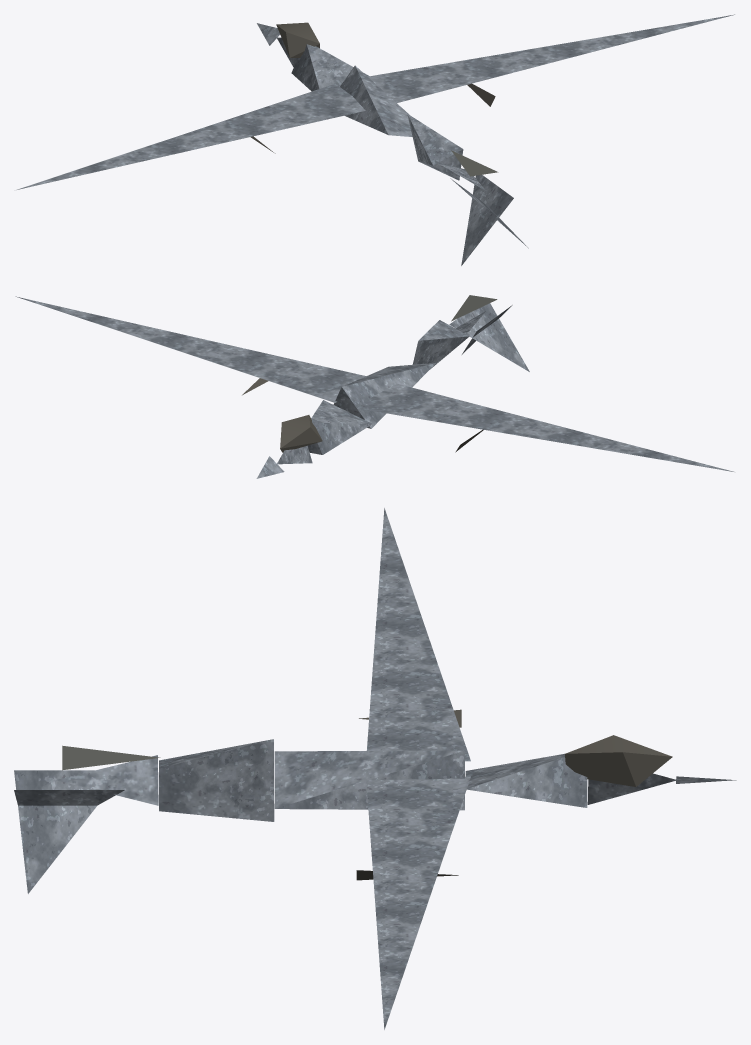
File: uav_e6_us_armed_LOD2.glb
3 renders of one model, top to bottom at view 1: azimuth 30°, elevation 25°; view 2: azimuth 150°, elevation 25°; view 3: azimuth 270°, elevation 25°, orthographic. The views are drawn at different scales.
Visible parts, largest first — view 1: uav_e6_us_armed_LOD2_body, uav_e6_us_armed_LOD2_deck, uav_e6_us_armed_LOD2_gun; view 2: uav_e6_us_armed_LOD2_body, uav_e6_us_armed_LOD2_deck, uav_e6_us_armed_LOD2_gun; view 3: uav_e6_us_armed_LOD2_body, uav_e6_us_armed_LOD2_deck, uav_e6_us_armed_LOD2_gun.
Part boxes in pixels (x1=…): uav_e6_us_armed_LOD2_body: x1=17, y1=14, x2=734, y2=265; uav_e6_us_armed_LOD2_deck: x1=250, y1=22, x2=495, y2=153; uav_e6_us_armed_LOD2_gun: x1=451, y1=150, x2=498, y2=176; uav_e6_us_armed_LOD2_body: x1=15, y1=296, x2=733, y2=478; uav_e6_us_armed_LOD2_deck: x1=242, y1=378, x2=483, y2=452; uav_e6_us_armed_LOD2_gun: x1=451, y1=295, x2=497, y2=321; uav_e6_us_armed_LOD2_body: x1=14, y1=508, x2=736, y2=1029; uav_e6_us_armed_LOD2_deck: x1=356, y1=709, x2=672, y2=880; uav_e6_us_armed_LOD2_gun: x1=62, y1=745, x2=160, y2=770.
Size of the model in its own units: 20.04 by 2.27 by 11.71.
3 materials, 1 textured.
